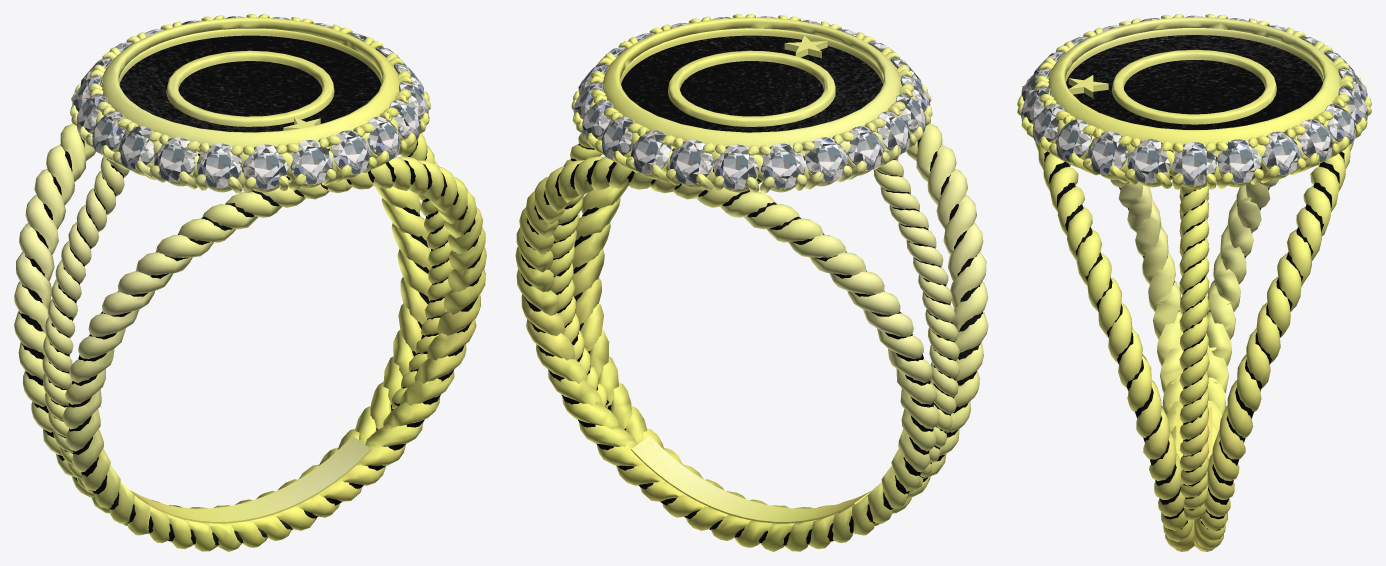
Rendered from ring17.glb.
The picture shows the model from 3 angles, left to right: view 1: azimuth 30°, elevation 25°; view 2: azimuth 150°, elevation 25°; view 3: azimuth 270°, elevation 25°; orthographic projection.
Parts seen in each view (by area): view 1: body, black, diamond; view 2: body, black, diamond; view 3: body, black, diamond.
Boxes of the visible parts, left/top/right/bottom form: body: left=14, top=14, right=486, bottom=551; black: left=19, top=35, right=481, bottom=545; diamond: left=72, top=16, right=428, bottom=189; body: left=515, top=14, right=988, bottom=551; black: left=520, top=35, right=983, bottom=545; diamond: left=573, top=16, right=930, bottom=189; body: left=1017, top=14, right=1371, bottom=551; black: left=1044, top=35, right=1344, bottom=530; diamond: left=1021, top=15, right=1367, bottom=185.
Size of the model in its own units: 20.89 by 22.55 by 15.85.
3 materials, 3 textured.
